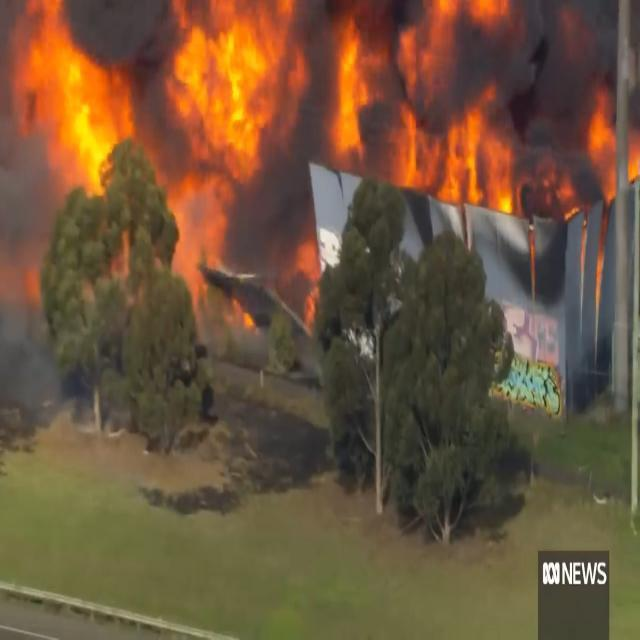fire: (1, 3, 127, 292), (174, 2, 282, 168), (396, 94, 528, 219), (160, 194, 262, 328), (585, 87, 640, 192), (329, 24, 368, 156), (437, 0, 515, 42)
